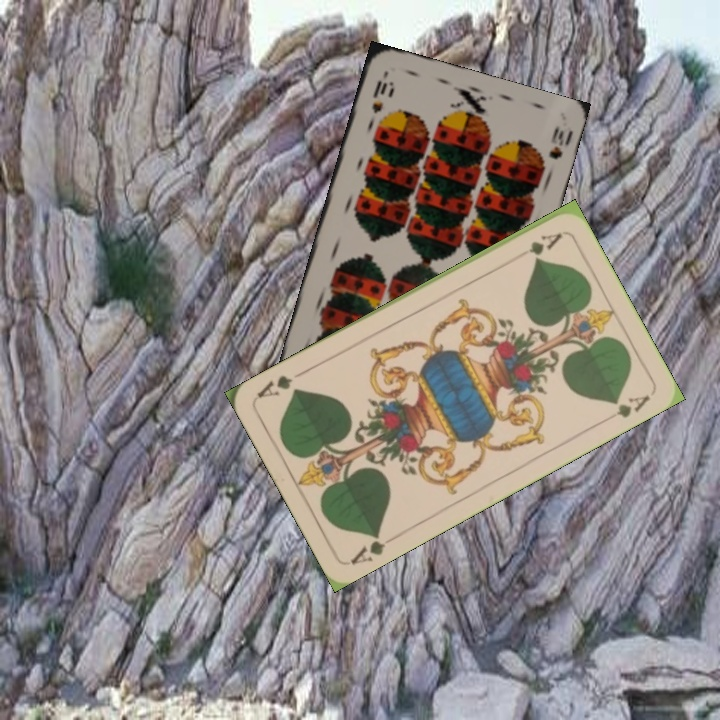GA: (346, 527, 389, 568), (510, 229, 565, 261)
S10: (368, 75, 395, 116)
